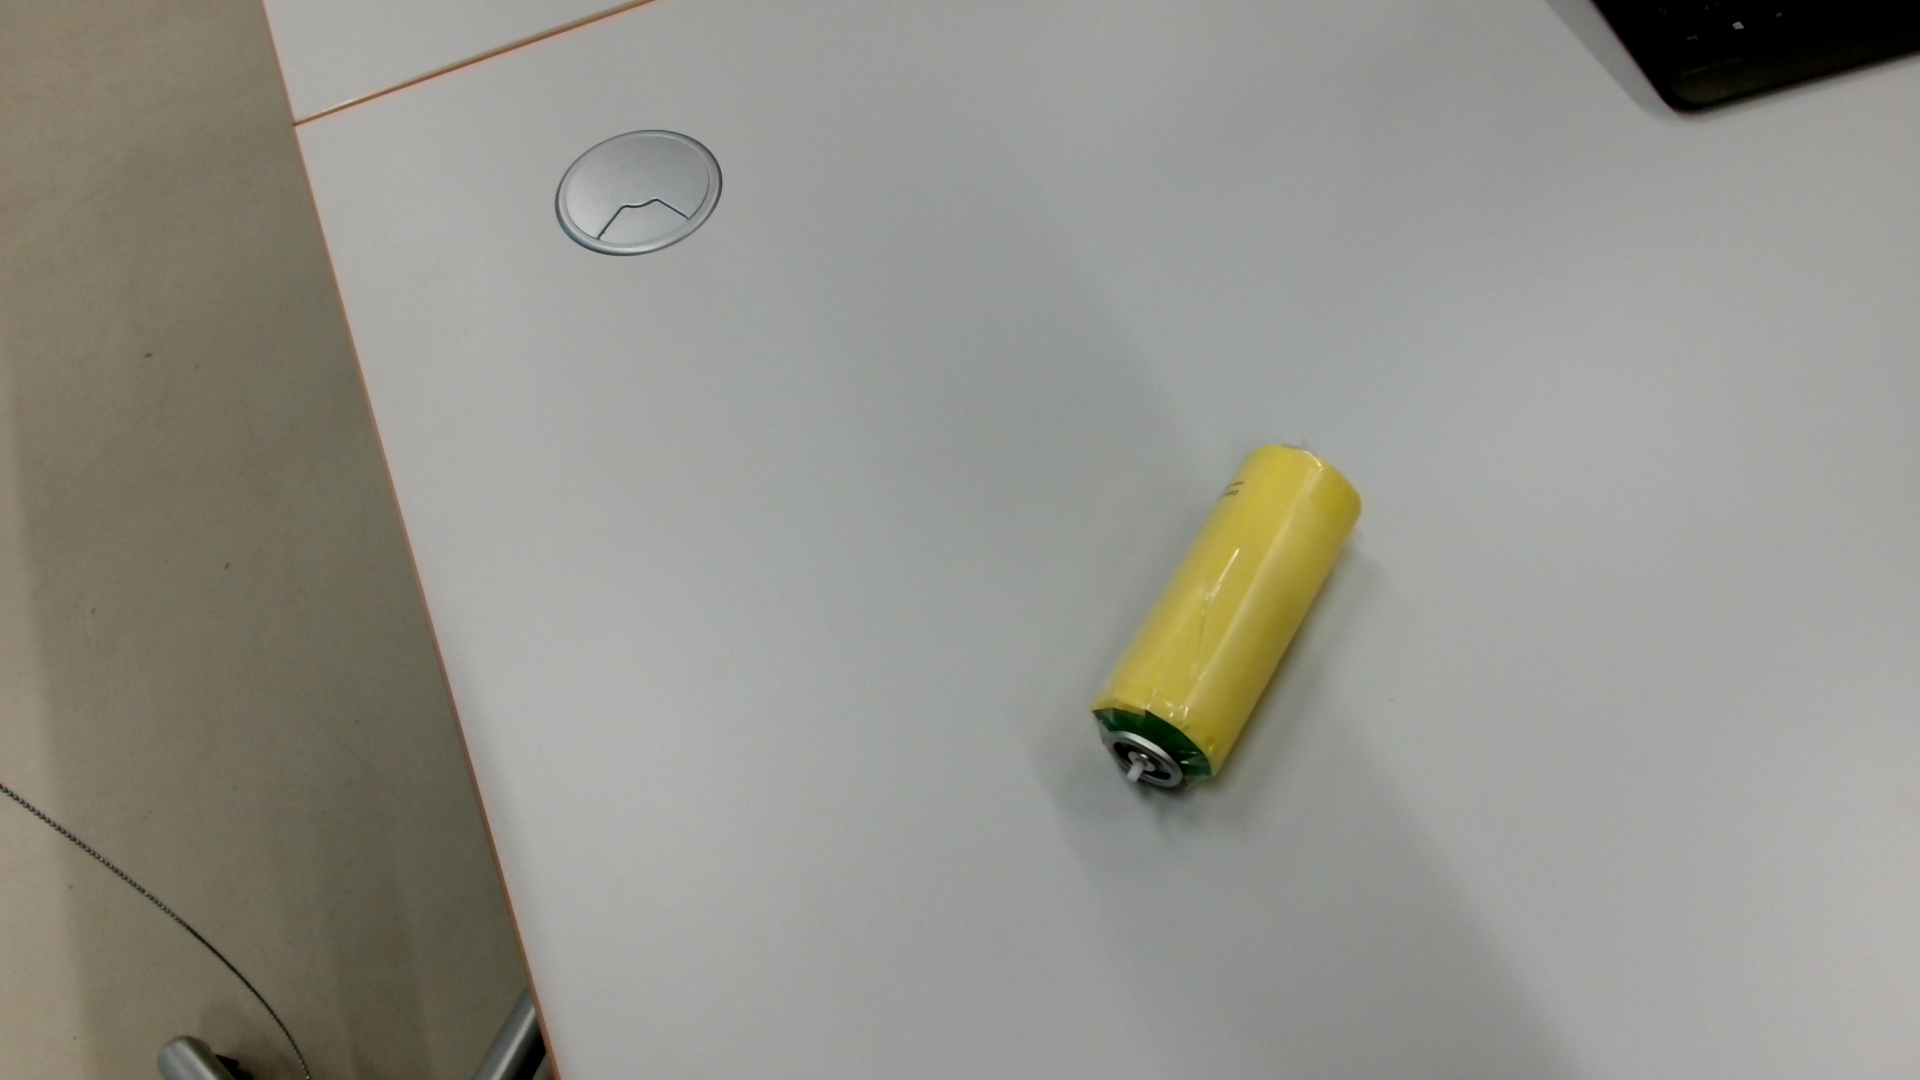Cylinder: (1076, 426, 1375, 815)
